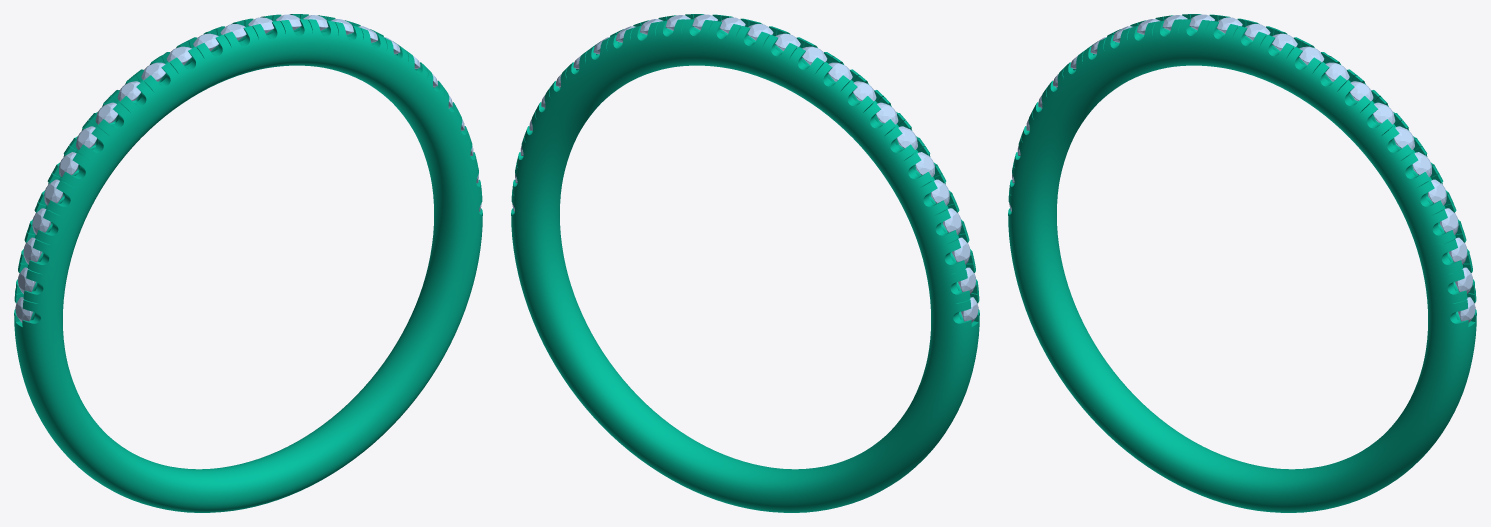
3 views of the same model, side by side, from view 1: azimuth 30°, elevation 25°; view 2: azimuth 150°, elevation 25°; view 3: azimuth 330°, elevation 25° (orthographic).
Parts seen in each view (by area): view 1: VR BAND SIZE R 1.8 MM 1.2 MM DIA(front).3dm; view 2: VR BAND SIZE R 1.8 MM 1.2 MM DIA(front).3dm; view 3: VR BAND SIZE R 1.8 MM 1.2 MM DIA(front).3dm.
Part boxes in pixels (x1,y1,x2,y2): VR BAND SIZE R 1.8 MM 1.2 MM DIA(front).3dm: (14, 14, 482, 512); VR BAND SIZE R 1.8 MM 1.2 MM DIA(front).3dm: (511, 14, 979, 512); VR BAND SIZE R 1.8 MM 1.2 MM DIA(front).3dm: (1008, 14, 1476, 512).
Size of the model in its own units: 2.82 by 2.82 by 0.2636.
